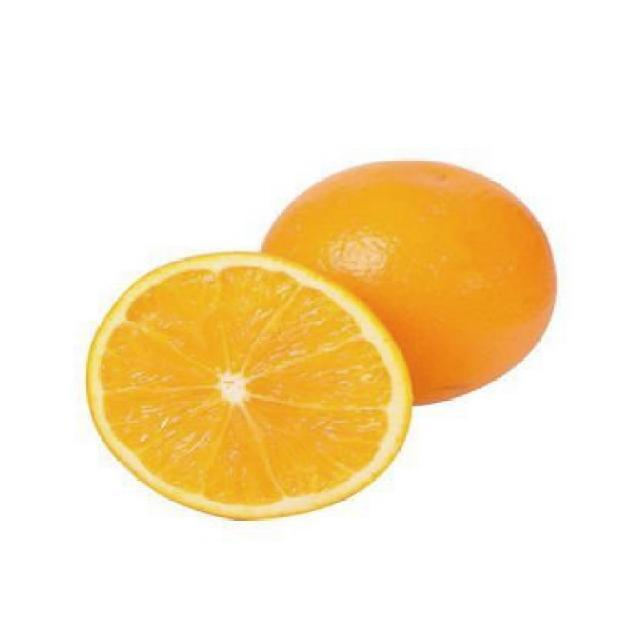Jeruk Sudah Matang: (252, 157, 556, 410)
